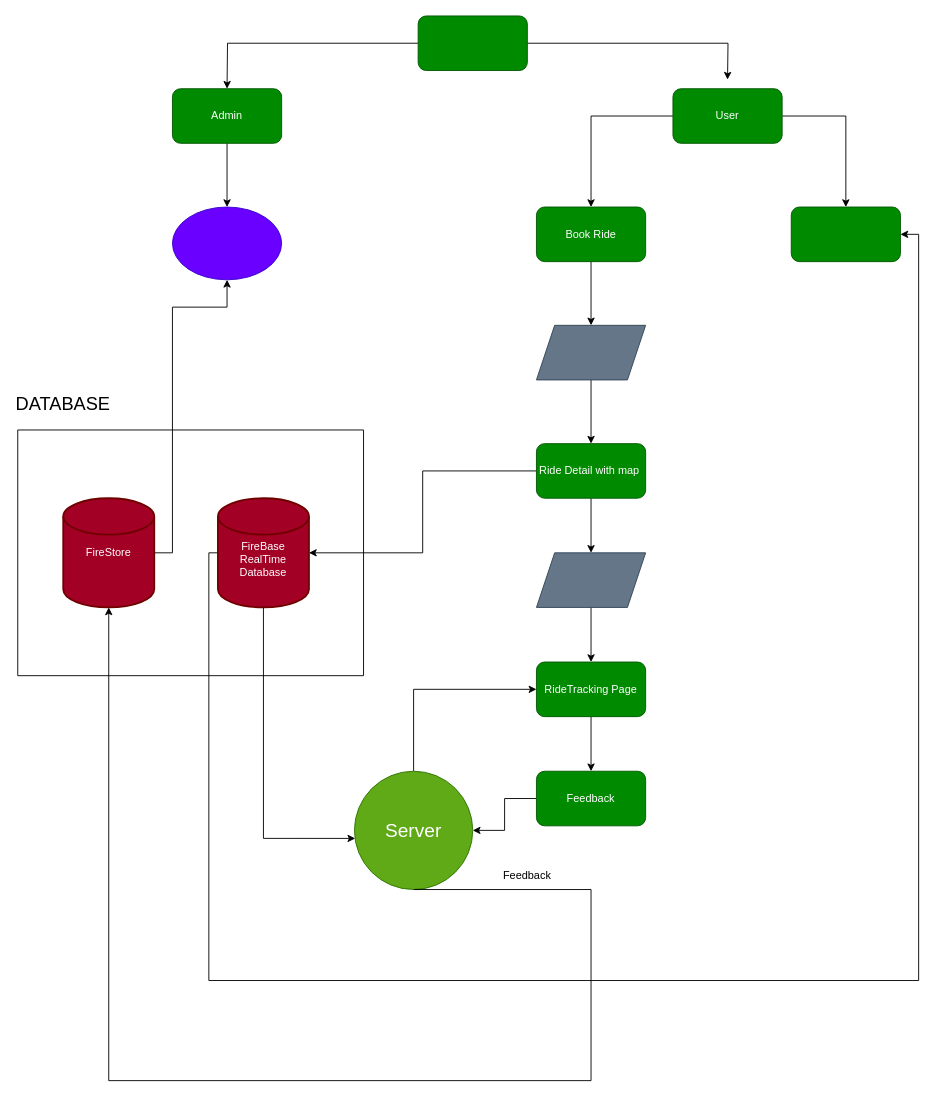
This 942x1104 diagram has some shape labels left out. The box of each missing label's shape, as (x1, y1, x2, y2) in pixels:
Login Page: (417, 15, 527, 71)
Review Rides and Feedbacks: (172, 206, 282, 280)
Review Shared Ride: (790, 206, 900, 262)
Select a Ride: (536, 324, 646, 380)
Share Ride on Whatsapp: (536, 552, 646, 607)
